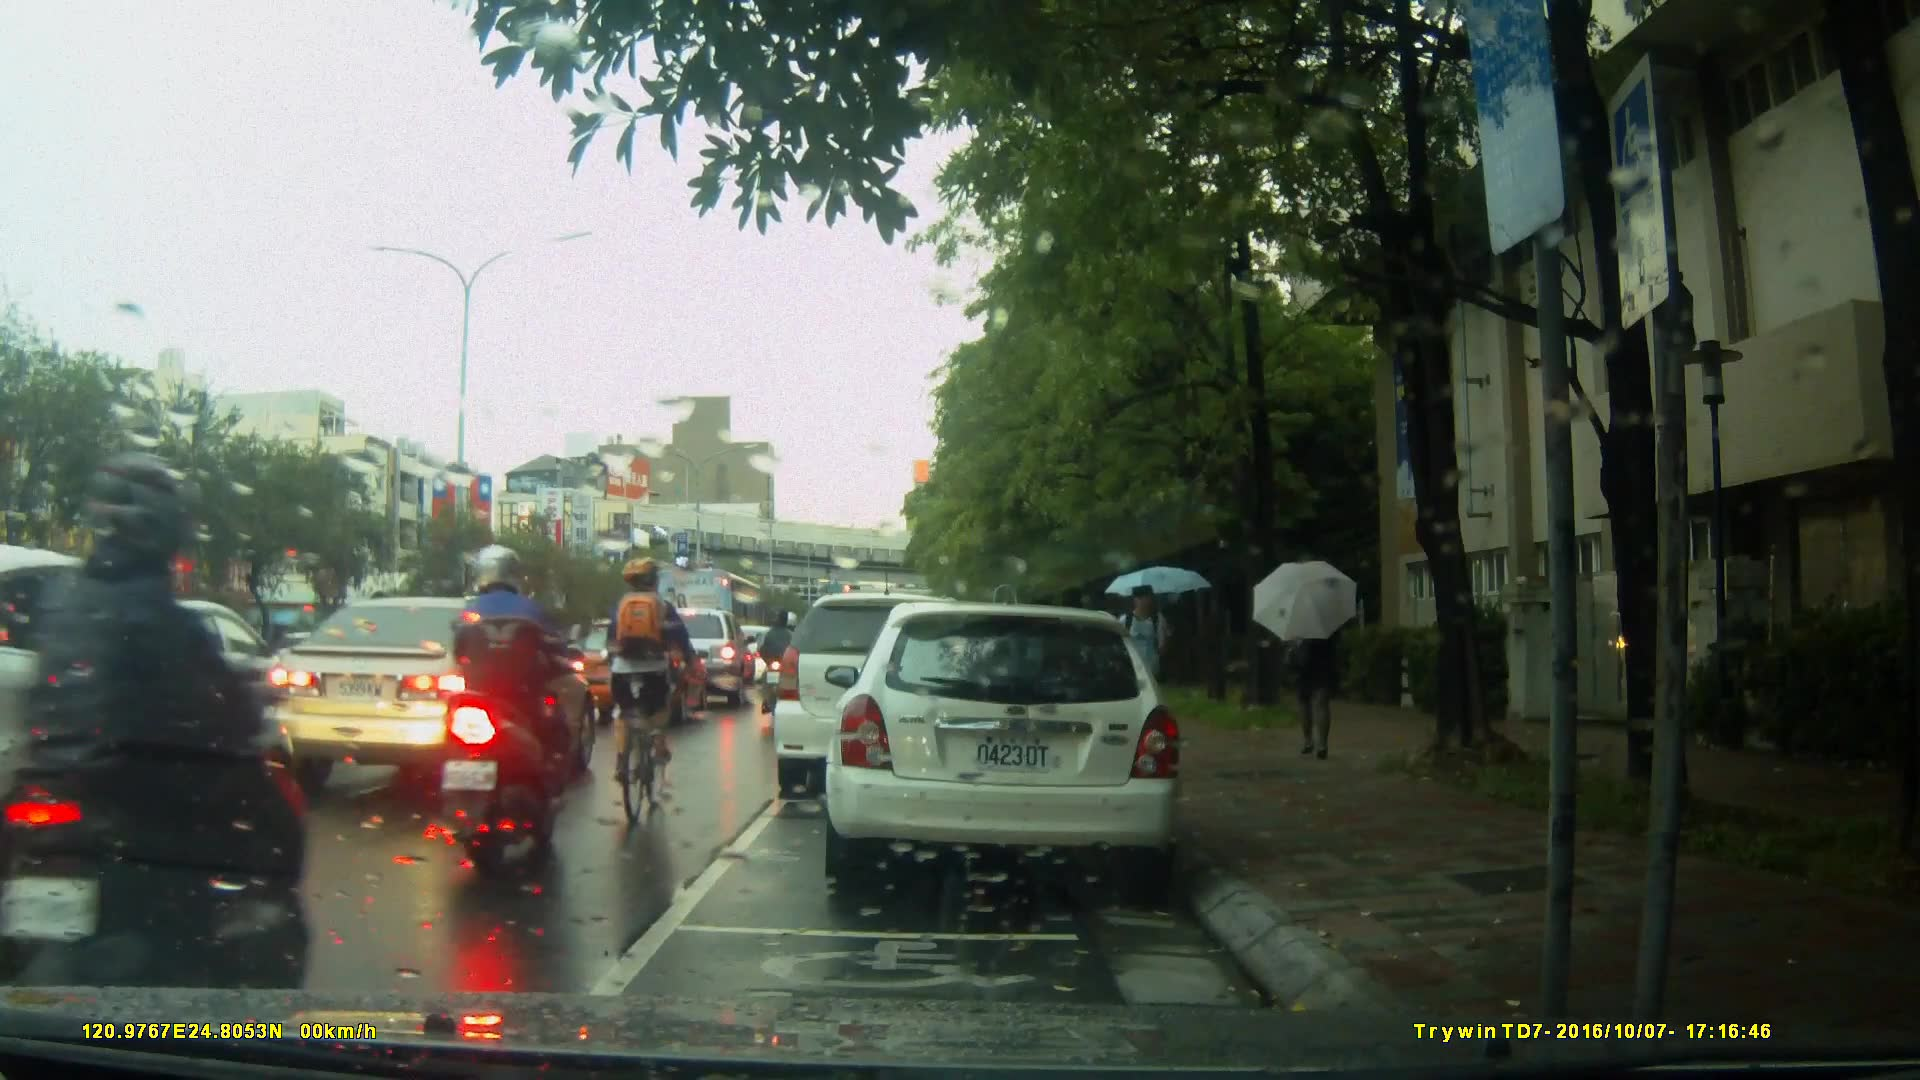pedestrian: (1128, 569, 1183, 782), (1279, 579, 1338, 762)
rider: (1, 455, 324, 1045), (445, 546, 576, 872), (605, 562, 706, 832), (768, 610, 801, 725)
vehicle: (1, 550, 304, 956), (835, 594, 1194, 898), (247, 595, 606, 796), (776, 590, 1026, 784), (558, 619, 709, 726), (653, 565, 769, 673)
